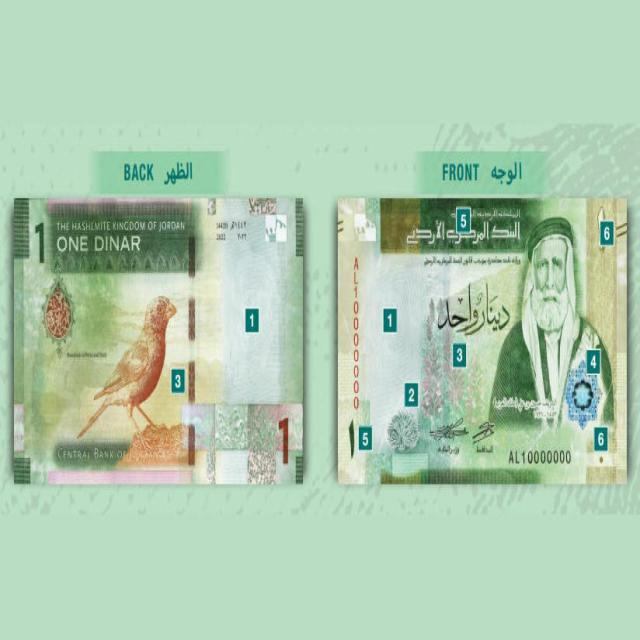1-dinar: (335, 196, 631, 488), (12, 191, 304, 485)
